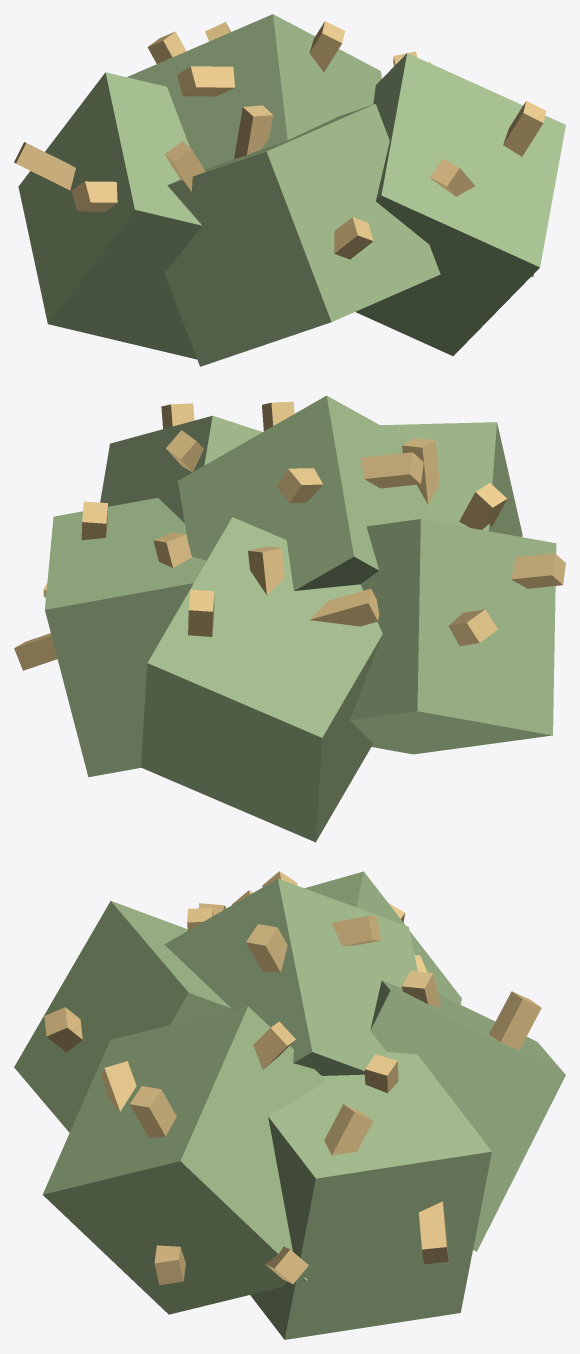
The model's file is Nirch Bush.fbx.
The picture shows the model from 3 angles, top to bottom: view 1: azimuth 30°, elevation 25°; view 2: azimuth 150°, elevation 25°; view 3: azimuth 270°, elevation 25°; orthographic projection. The views are drawn at different scales.
Visible parts, largest first — view 1: Nirch Bush; view 2: Nirch Bush; view 3: Nirch Bush.
Boxes of the visible parts, <box> form: Nirch Bush: <box>14,14,565,366</box>; Nirch Bush: <box>14,395,565,842</box>; Nirch Bush: <box>14,871,565,1339</box>.
Bounding box in the file's own units: 104 × 71.94 × 95.66.
